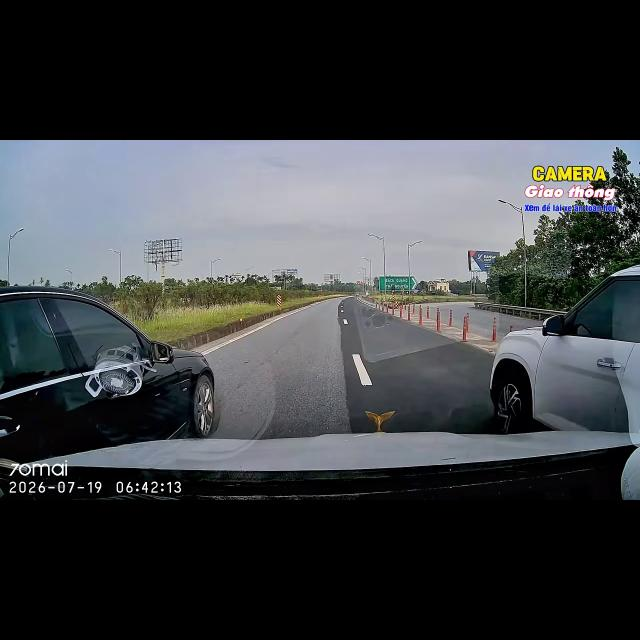car: (0, 286, 215, 463), (490, 266, 639, 433)
